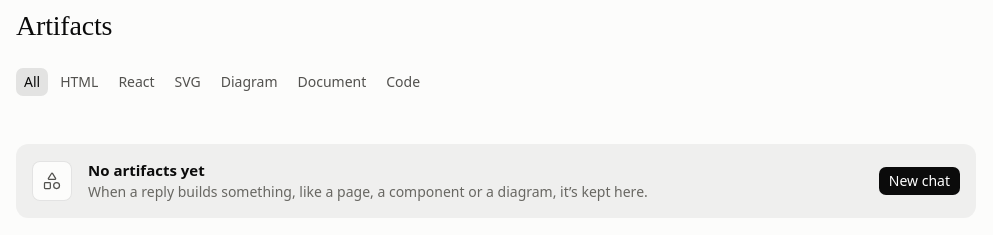
it: ArtifactsPage › says what will show up here while there is nothing yet
Expected: the heading "No artifacts yet" is shown, left=88, top=160, right=205, bottom=180
Click the button "HTML" at (79, 82), box left=52, top=68, right=106, bottom=96
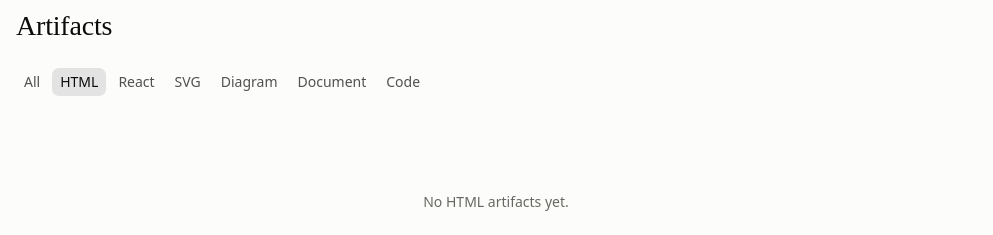
Now the text "No HTML artifacts yet." is shown, box left=423, top=192, right=569, bottom=211
